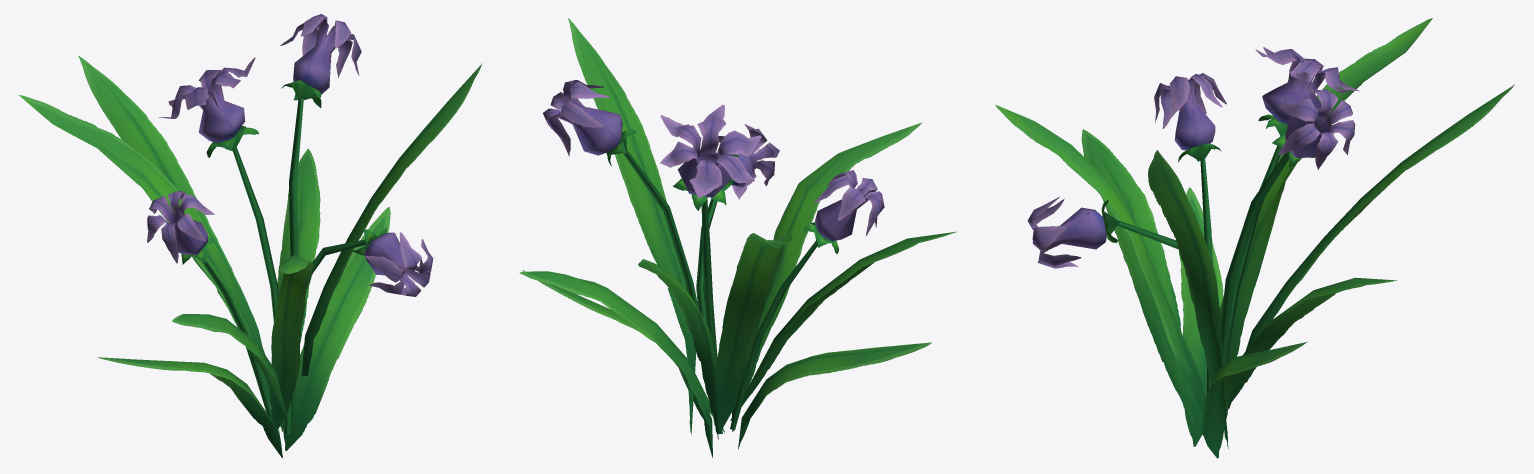
The model's file is MSH_FWOF_Flower_Large_B_03.fbx.
3 renders of one model, left to right at view 1: azimuth 30°, elevation 25°; view 2: azimuth 150°, elevation 25°; view 3: azimuth 270°, elevation 25°, orthographic. The views are drawn at different scales.
Parts seen in each view (by area): view 1: MSH_FWOF_Flower_Large_B_03; view 2: MSH_FWOF_Flower_Large_B_03; view 3: MSH_FWOF_Flower_Large_B_03.
Boxes of the visible parts, <box> form: MSH_FWOF_Flower_Large_B_03: <box>19,14,482,457</box>; MSH_FWOF_Flower_Large_B_03: <box>519,18,956,457</box>; MSH_FWOF_Flower_Large_B_03: <box>995,18,1514,458</box>.
Size of the model in its own units: 1.17 by 1.13 by 1.31.
